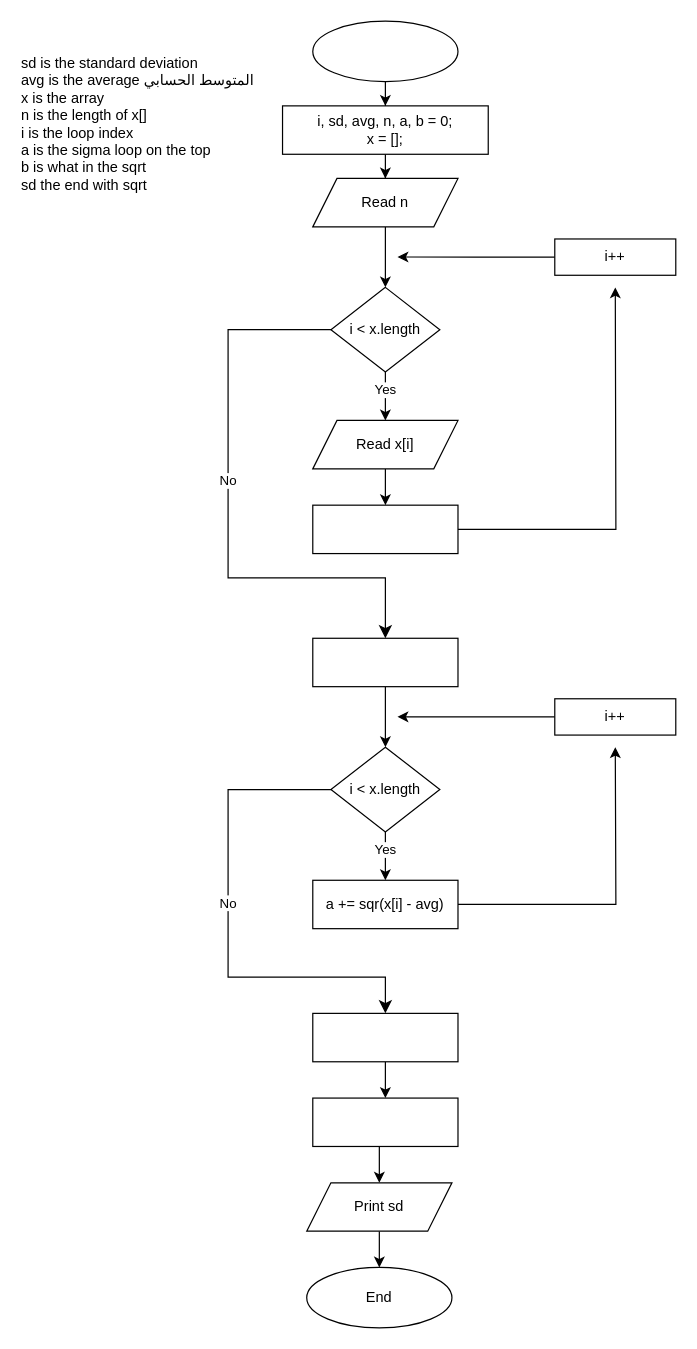
The diagram is 697 pixels wide and 1349 high, and some of its shapes have lost their labels. Each missing label, with the centre of its shape:
"avg += x[i]" goes at point (385, 529).
"avg = avg / n" goes at point (385, 662).
"b = a / n" goes at point (385, 1037).
"sd = sqrt(b)" goes at point (385, 1121).
"Start" goes at point (385, 51).
